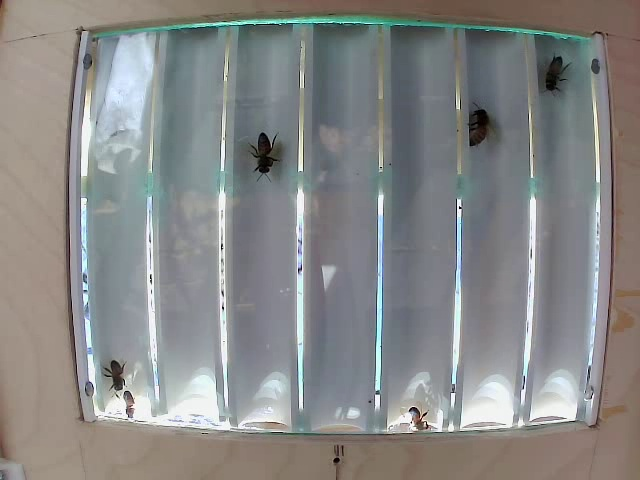bee: (243, 135, 293, 192), (452, 106, 499, 154), (101, 348, 145, 397), (541, 52, 574, 103)
